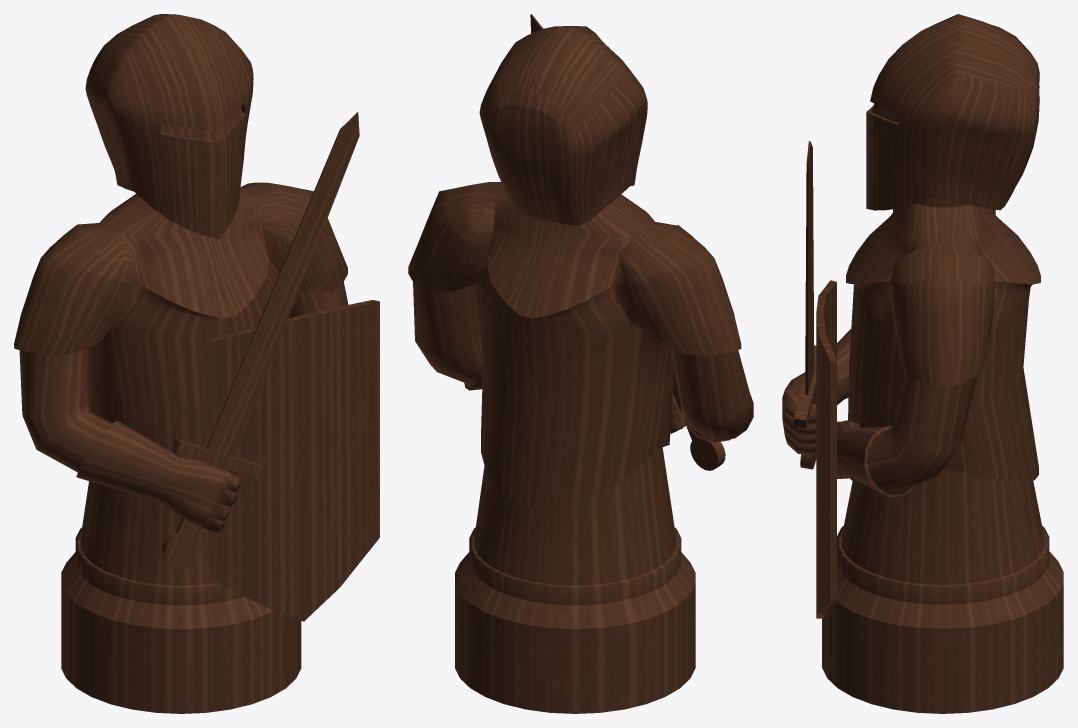
The model's file is Knight,black.fbx.
3 renders of one model, left to right at view 1: azimuth 30°, elevation 25°; view 2: azimuth 150°, elevation 25°; view 3: azimuth 270°, elevation 25°, orthographic.
Visible parts, largest first — view 1: Knight_black; view 2: Knight_black; view 3: Knight_black.
Boxes of the visible parts, bbox=[...] form: Knight_black: bbox=[14, 14, 379, 713]; Knight_black: bbox=[408, 14, 753, 713]; Knight_black: bbox=[782, 14, 1063, 713].
Bounding box in the file's own units: 58.91 × 108 × 42.86.
1 material, 1 textured.
